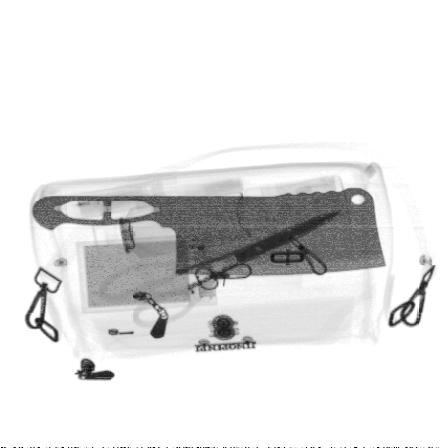Knife: (32, 187, 386, 277)
Powerbank: (77, 231, 221, 317)
Scissors: (101, 211, 345, 329)
Sprayer: (93, 193, 254, 259)
